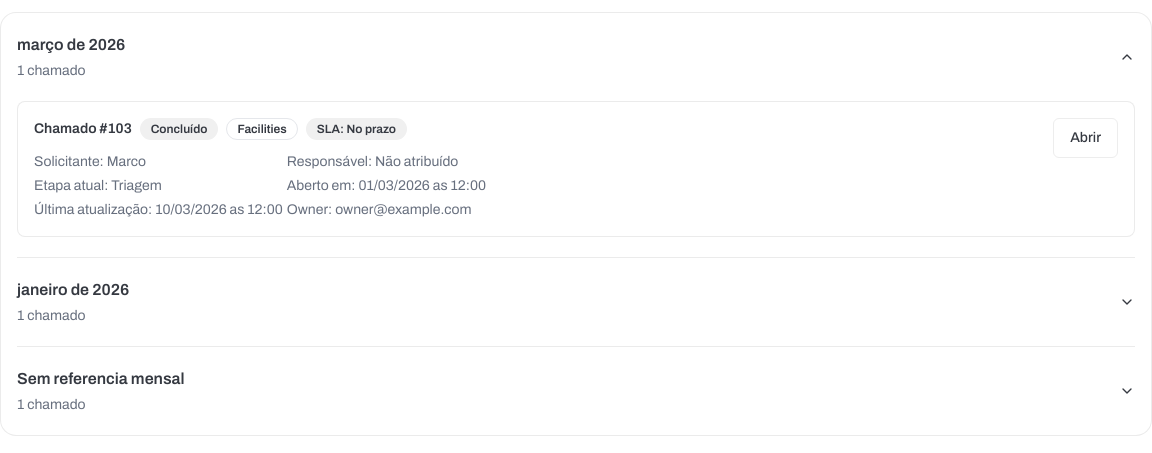
Test case: CompletedPanel › sorts groups by newest month, keeps unknown last and opens the newest group by default
expect the text "Chamado #103" is shown: met, box [34,119,132,139]
expect the text "Chamado #101" is not shown: met
Click the button "janeiro de 2026 1 chamado". click: (73, 290)
box: [17,258,1135,346]
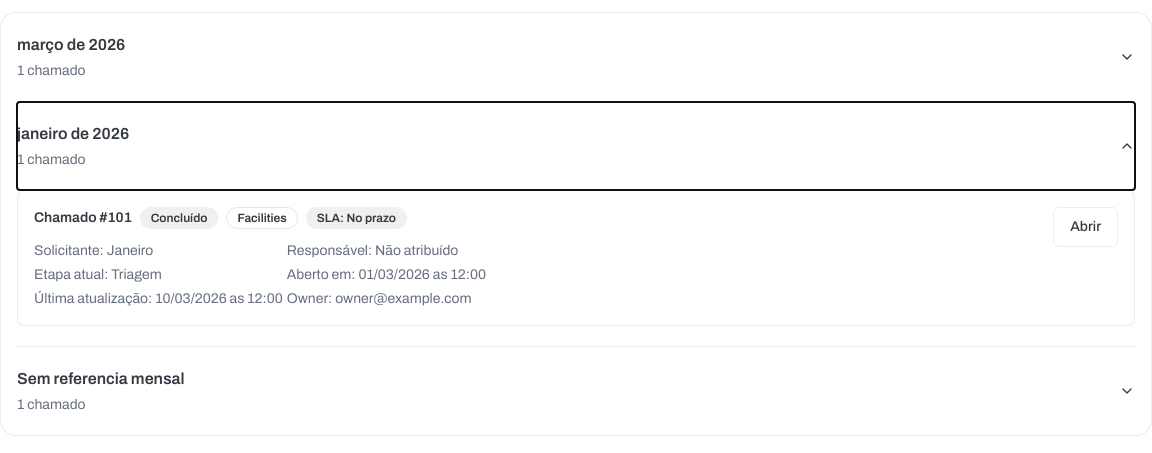
expect the text "Chamado #101" is shown: met, box [34,208,132,228]
expect the text "Chamado #103" is gone: met
